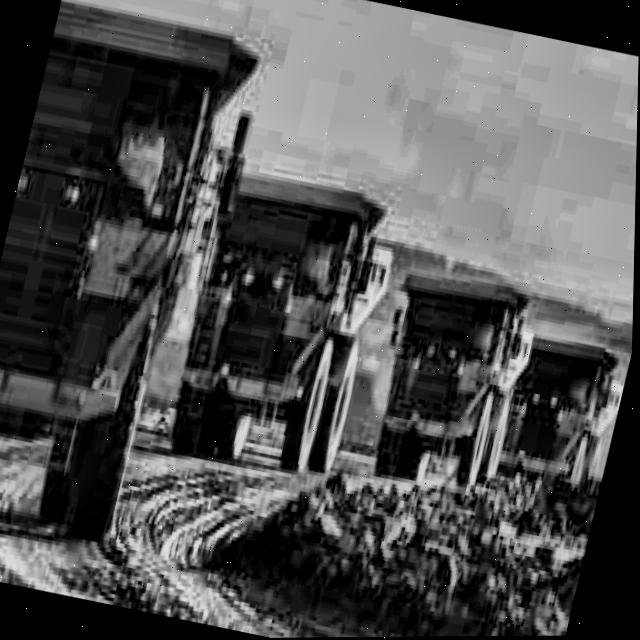dump_truck: (0, 0, 262, 549), (153, 136, 408, 509), (349, 226, 565, 536), (500, 312, 634, 518)
